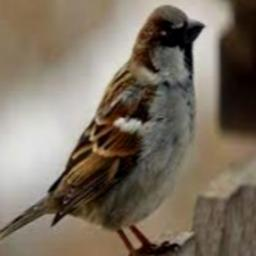Sparrow: (0, 6, 205, 256)
